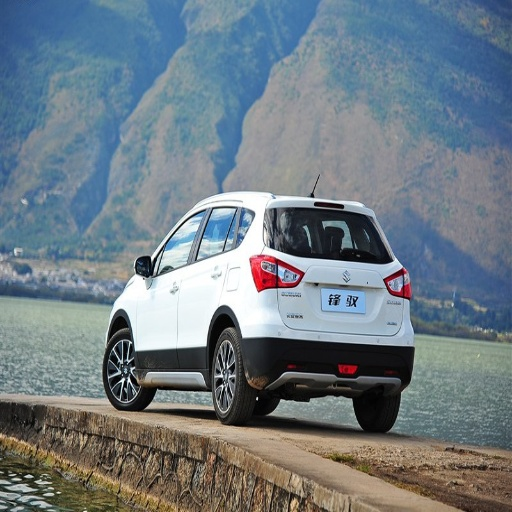back_bumper: (243, 295, 416, 389)
back_glass: (267, 207, 389, 262)
back_left_door: (182, 205, 237, 369)
trunk: (259, 260, 400, 336)
